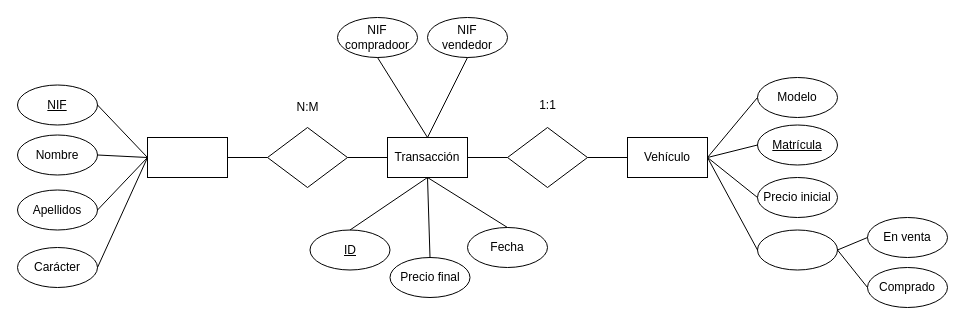
Image size: 965x325. Some labels were removed from this diagram. Each missing label, with the centre of its shape:
Estado: the point at 797,249
realizan: the point at 307,157
sobre: the point at 547,157
Usuarios: the point at 187,157
